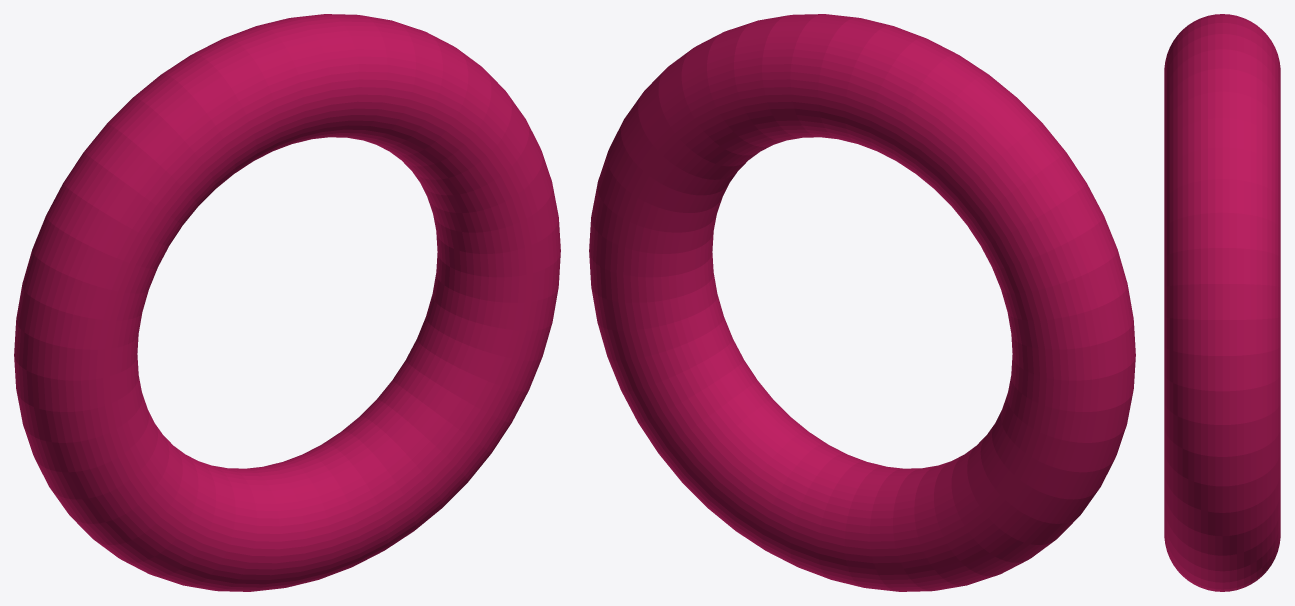
3 views of the same model, side by side, from view 1: azimuth 30°, elevation 25°; view 2: azimuth 150°, elevation 25°; view 3: azimuth 270°, elevation 25° (orthographic). The views are drawn at different scales.
Parts seen in each view (by area): view 1: world; view 2: world; view 3: world.
Boxes of the visible parts, <box> form: world: <box>14,14,560,591</box>; world: <box>589,14,1135,591</box>; world: <box>1164,14,1280,591</box>.
Size of the model in its own units: 35.07 by 35 by 7.05.
